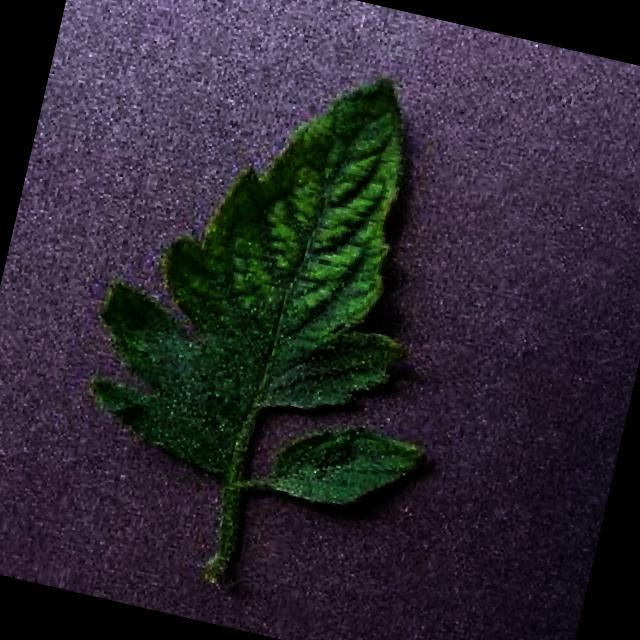Tomato mosaic virus leaf: (68, 15, 512, 537)
